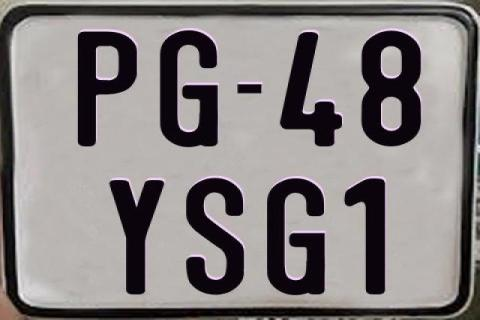0: (279, 32, 342, 149), (361, 28, 422, 146), (341, 177, 383, 296)
G: (266, 176, 328, 298), (157, 30, 218, 148)
P: (75, 29, 140, 145)
S: (184, 176, 242, 294)
Y: (107, 180, 168, 296)
